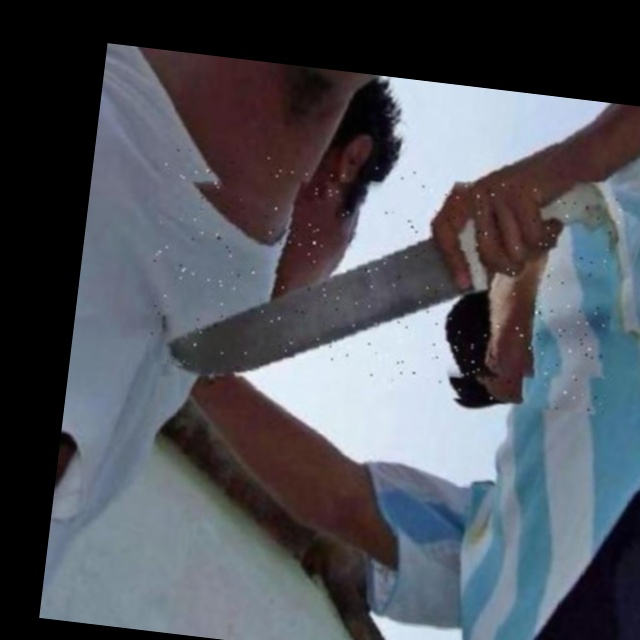Sharp-Object: (142, 143, 626, 416)
